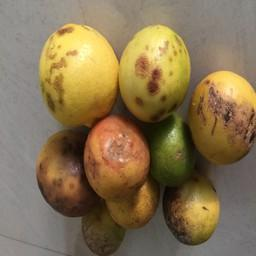Bad_lime: (37, 27, 116, 121), (118, 23, 191, 114), (83, 112, 150, 198), (191, 72, 256, 159), (36, 131, 90, 219), (167, 188, 220, 244), (78, 208, 122, 255), (105, 190, 159, 225)
